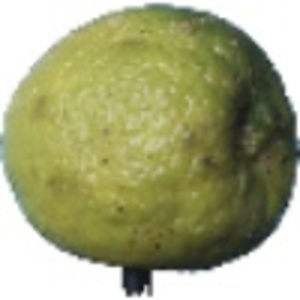limão: (1, 3, 300, 296)
